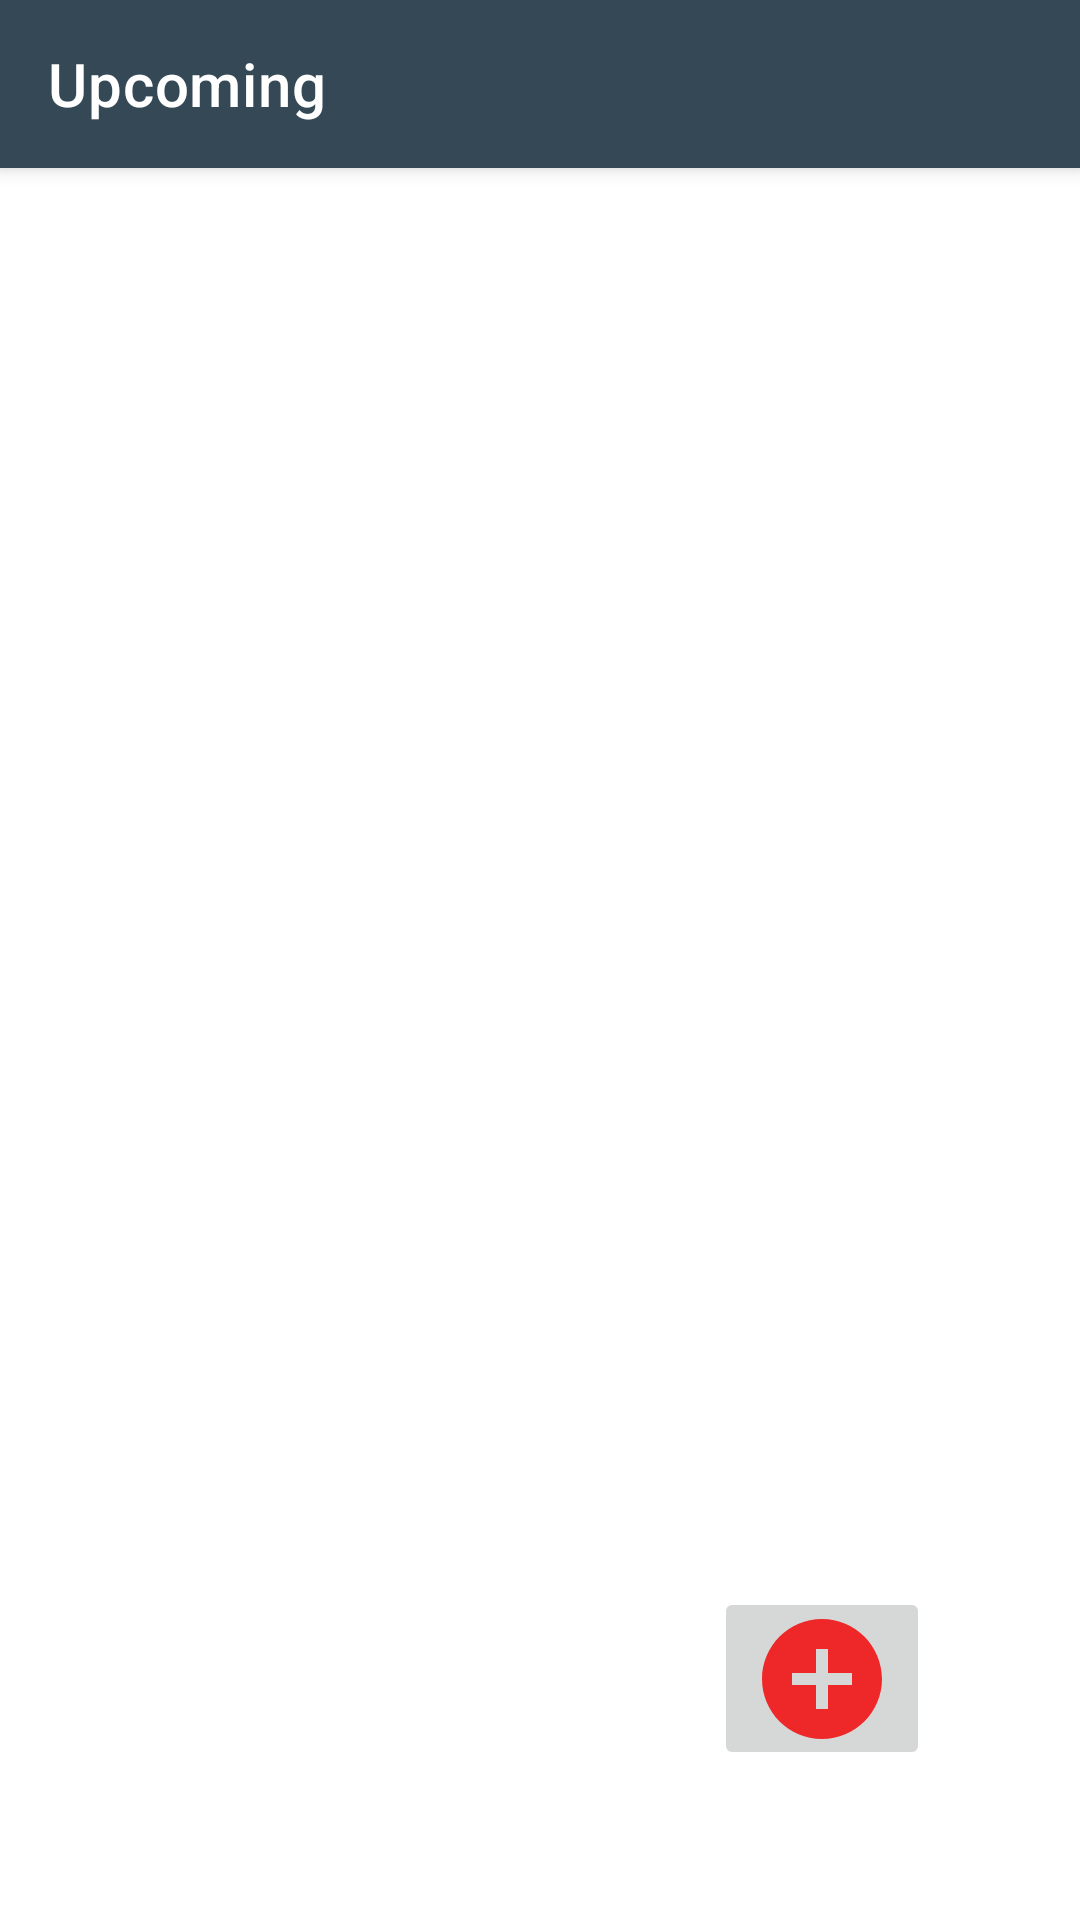

Screen size 1080x1920. Icon name, then its box in pixels as (x1, y1, x2, y2):
add circle: (726, 1605, 918, 1752)
